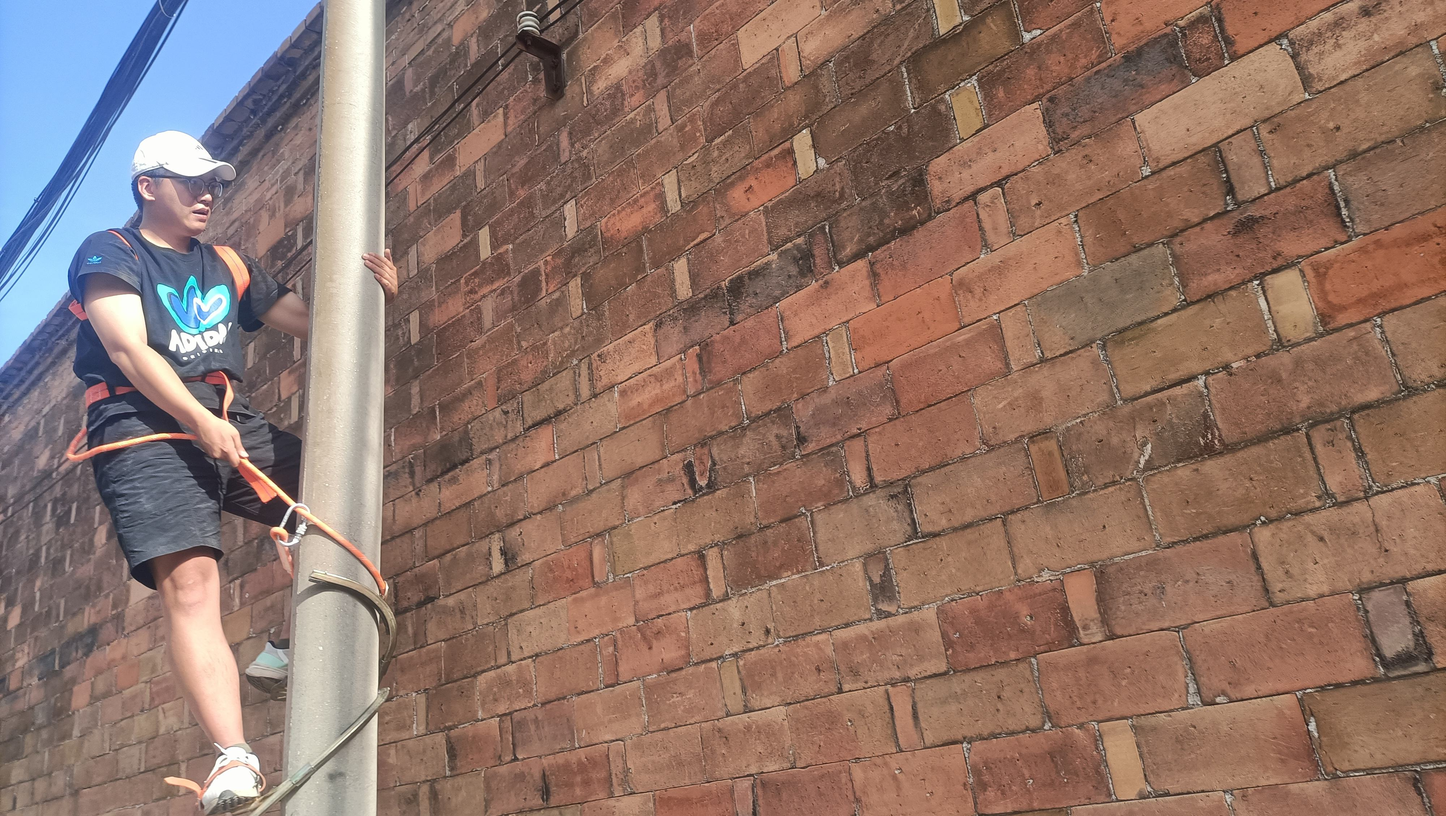安全帽、工作服均未穿戴的工作人员: (65, 125, 304, 816)
